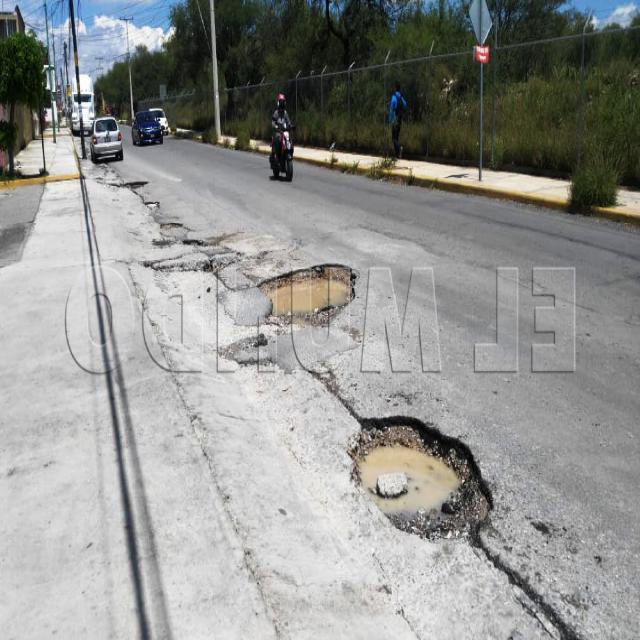pothole: (168, 184, 378, 394), (339, 396, 514, 563)
